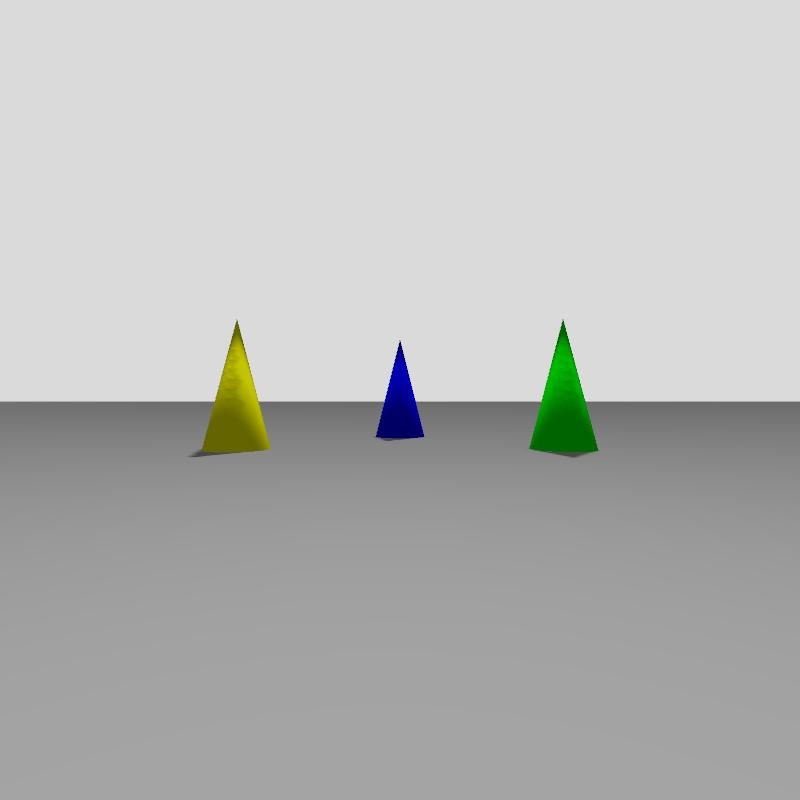Blue_cone: (375, 342, 424, 440)
Green_cone: (530, 320, 597, 453)
Yellow_cone: (202, 321, 269, 452)
